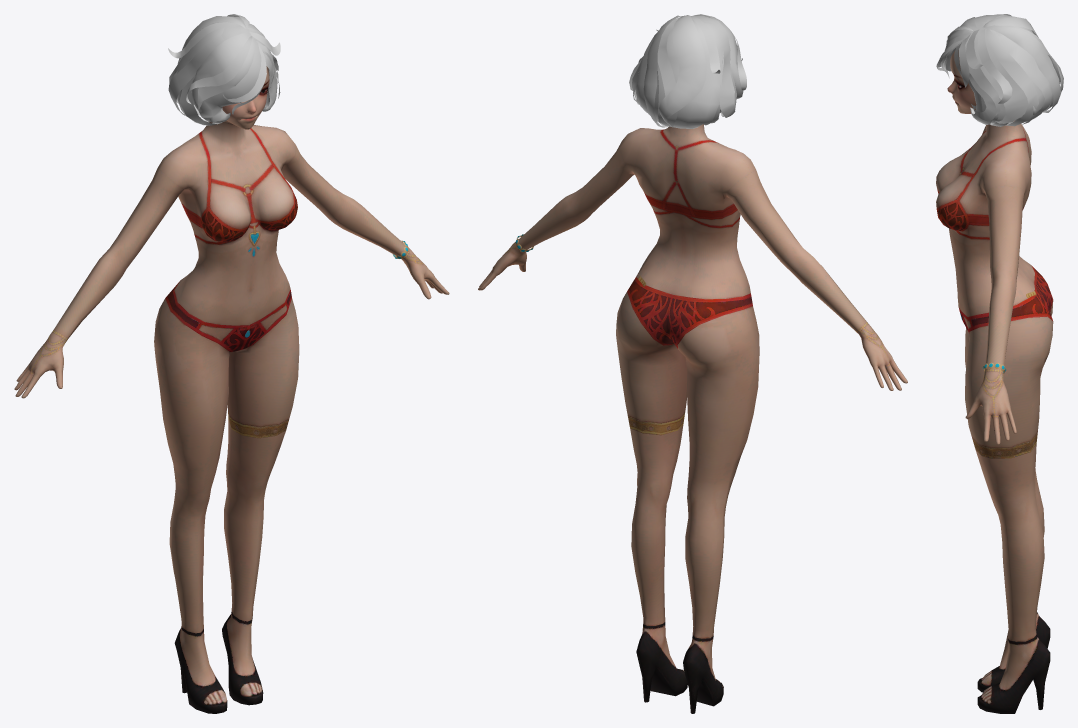
File: Velvet Swimsuit.FBX
The picture shows the model from 3 angles, left to right: view 1: azimuth 30°, elevation 25°; view 2: azimuth 150°, elevation 25°; view 3: azimuth 270°, elevation 25°; orthographic projection.
Visible parts, largest first — view 1: Velvet Swimsuit, Velvet_Hair; view 2: Velvet Swimsuit, Velvet_Hair; view 3: Velvet Swimsuit, Velvet_Hair.
Boxes of the visible parts, x1,y1,x2,y2 form: Velvet Swimsuit: (14,66,449,713); Velvet_Hair: (168,14,280,125); Velvet Swimsuit: (478,124,907,713); Velvet_Hair: (629,14,746,128); Velvet Swimsuit: (936,50,1053,713); Velvet_Hair: (936,14,1063,126).
Bounding box in the file's own units: 115 × 175 × 29.77.
